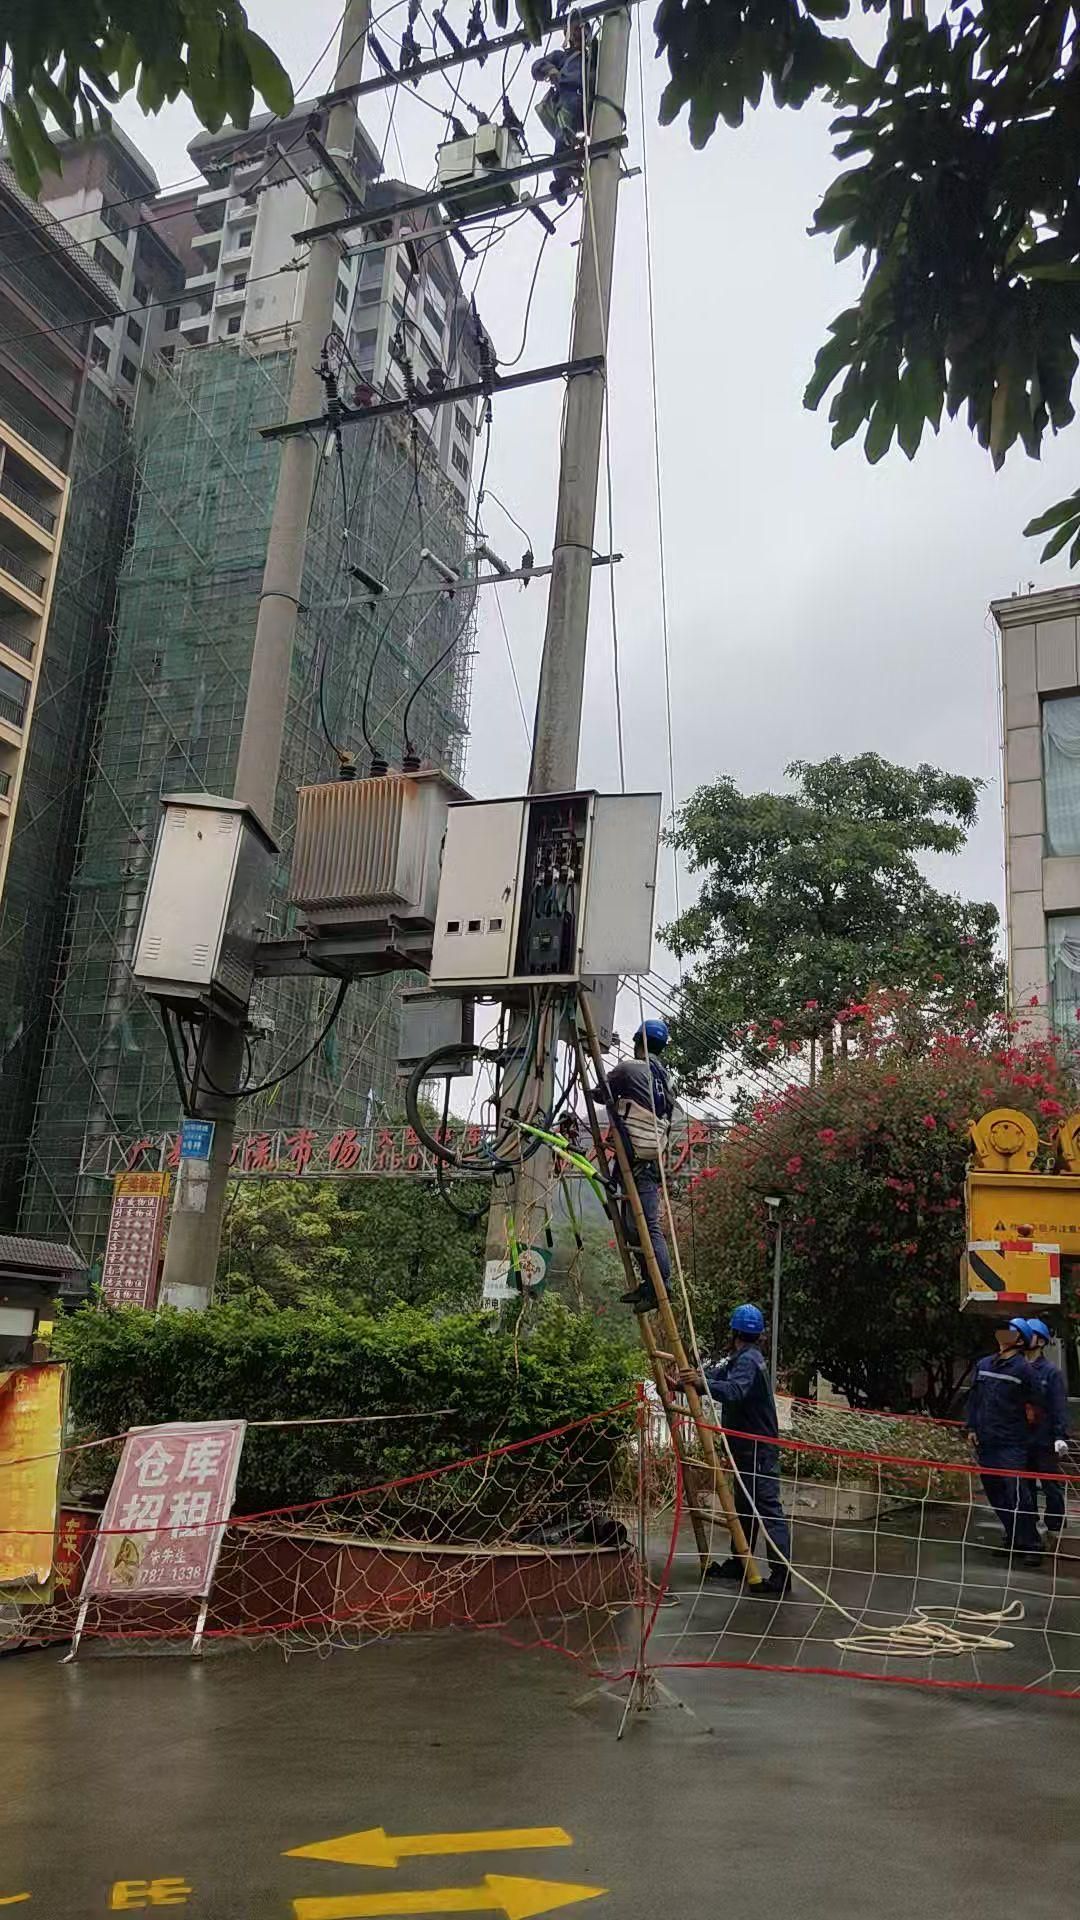halt: (1001, 1317, 1036, 1360), (732, 1308, 769, 1346), (640, 1021, 673, 1058)
